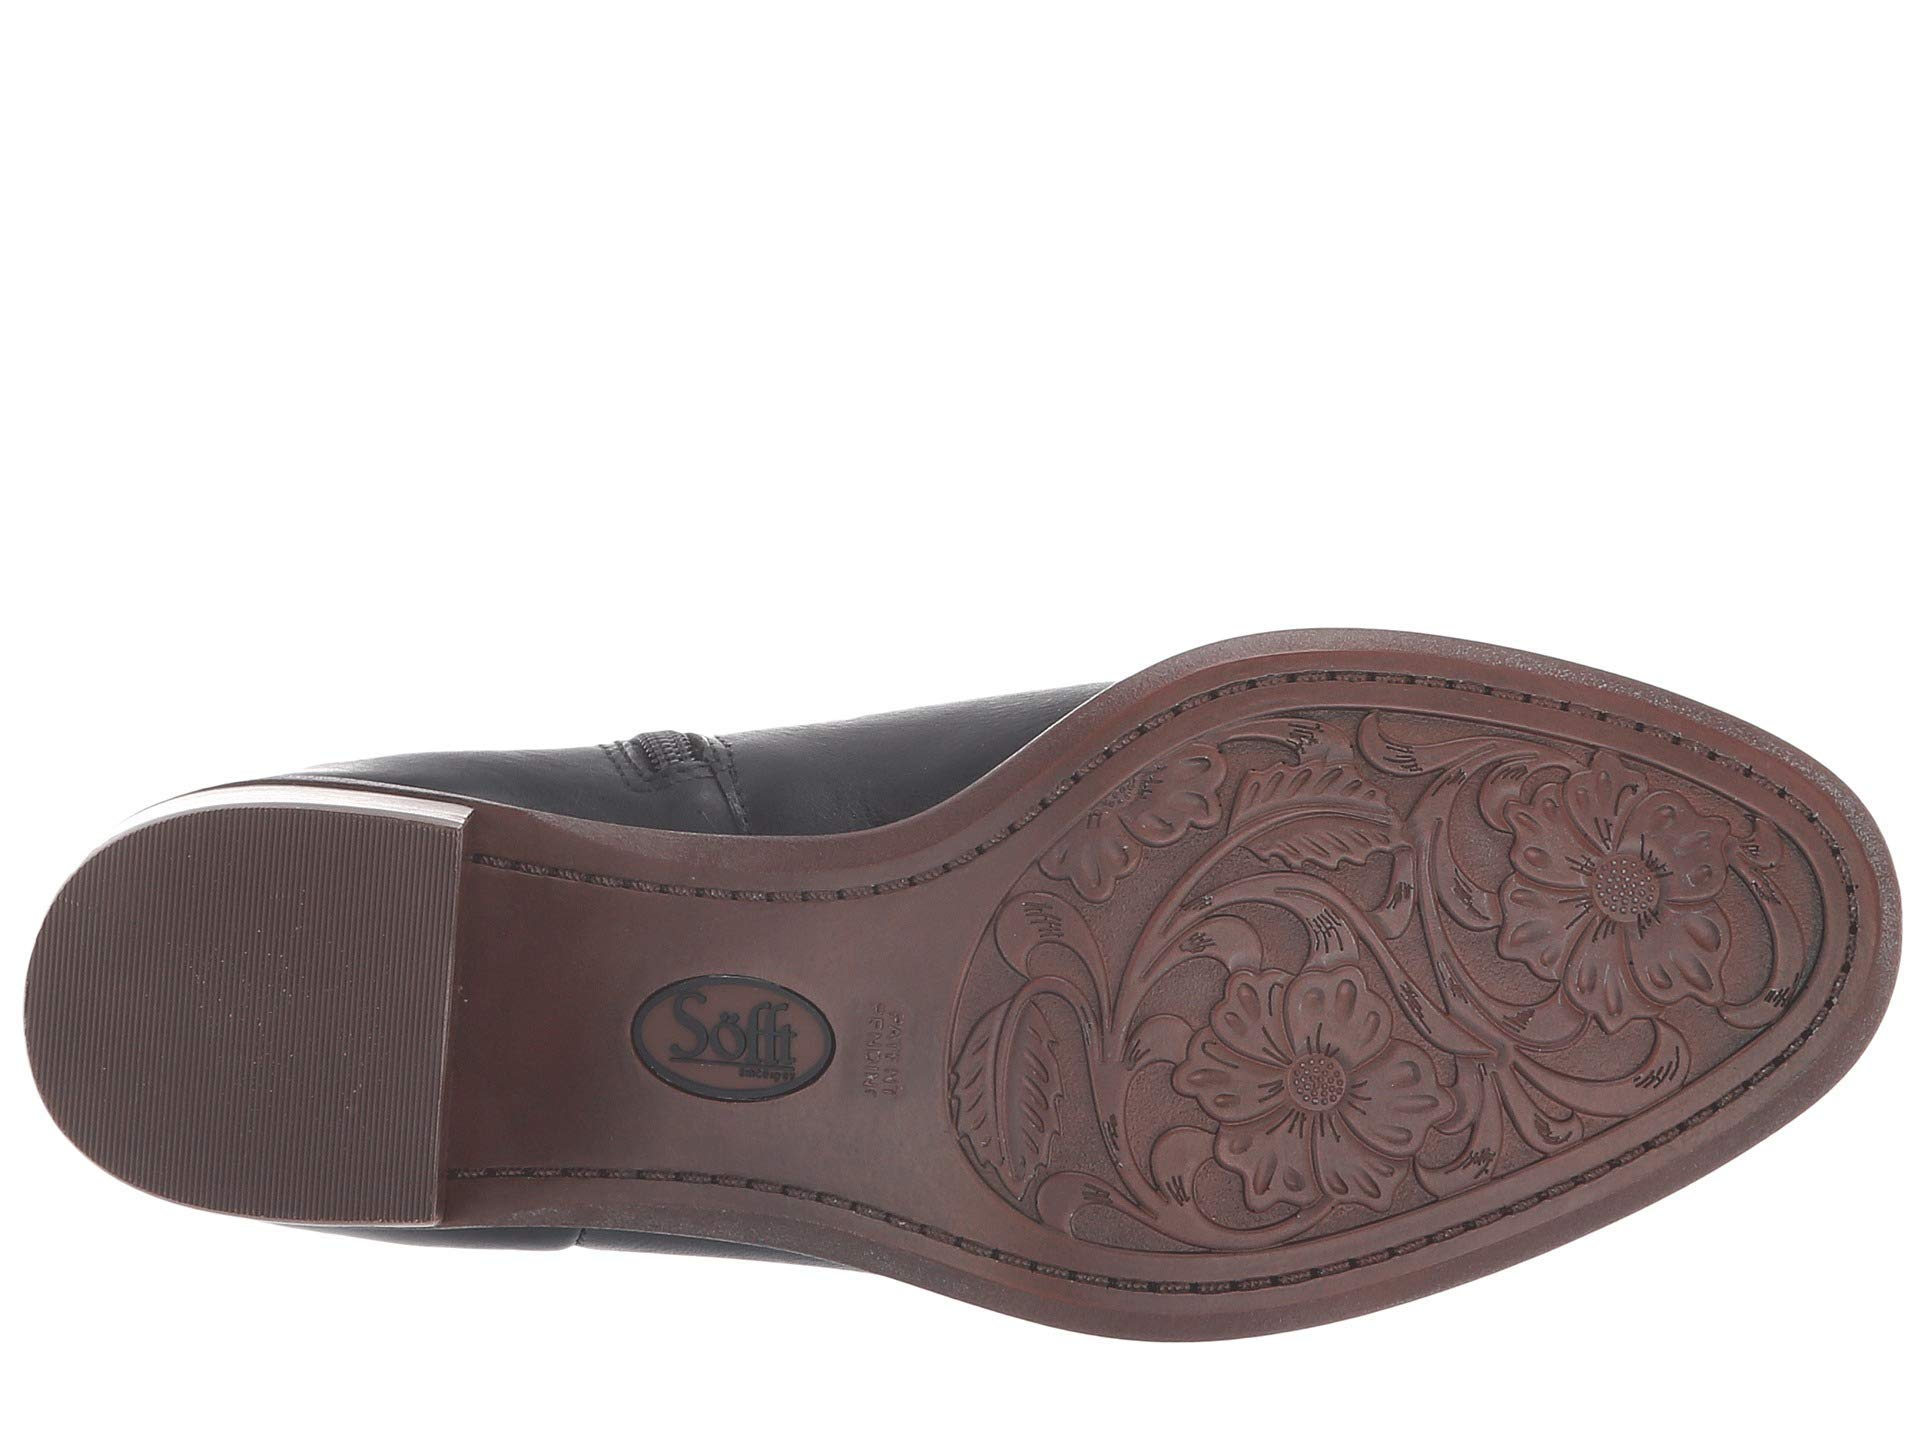circle: (1489, 759, 1770, 1044), (1191, 951, 1442, 1231), (591, 954, 844, 1115)
line: (1489, 759, 1770, 1044), (1191, 951, 1442, 1231), (591, 954, 844, 1115)
other: (1489, 759, 1770, 1044), (1191, 951, 1442, 1231), (591, 954, 844, 1115)
text: (591, 954, 844, 1115), (865, 970, 934, 1127)
triangle: (1489, 759, 1770, 1044)
